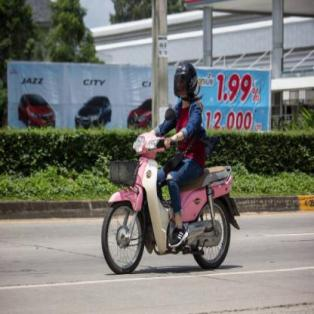Motocicleta: (98, 117, 237, 274)
